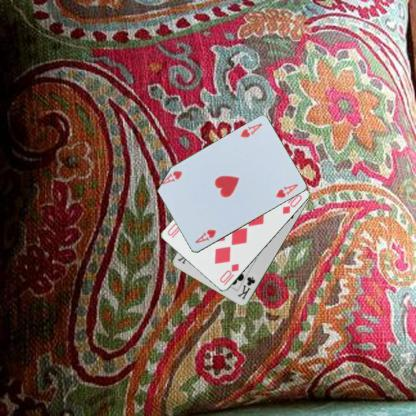10d: (218, 261, 240, 287)
Ah: (192, 227, 218, 245), (238, 121, 264, 139)
Kc: (234, 274, 256, 301)
